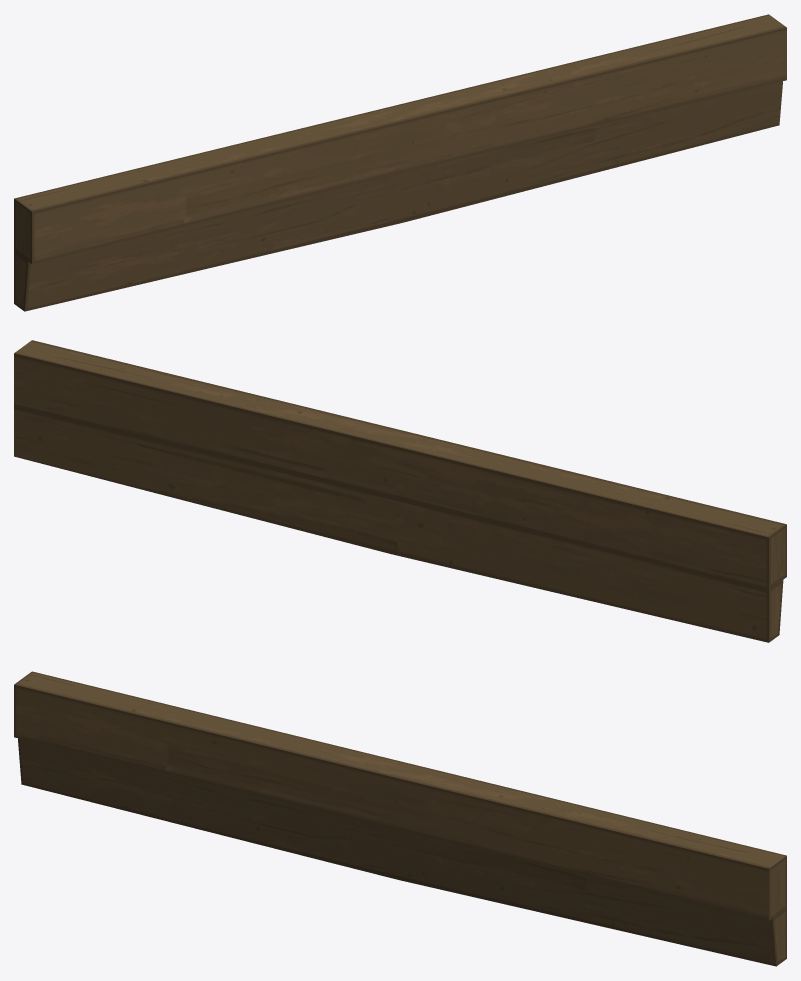
Rendered from SM_plinth_06.glb.
3 views of the same model, one above another, from view 1: azimuth 30°, elevation 25°; view 2: azimuth 150°, elevation 25°; view 3: azimuth 330°, elevation 25° (orthographic).
Parts seen in each view (by area): view 1: SM_plinth_06; view 2: SM_plinth_06; view 3: SM_plinth_06.
Boxes of the visible parts, x1,y1,x2,y2 form: SM_plinth_06: (14, 14, 786, 311); SM_plinth_06: (14, 340, 786, 642); SM_plinth_06: (14, 671, 786, 966).
Size of the model in its own units: 3 by 0.4132 by 0.1245.
Materials: 1 (1 with a texture image).
